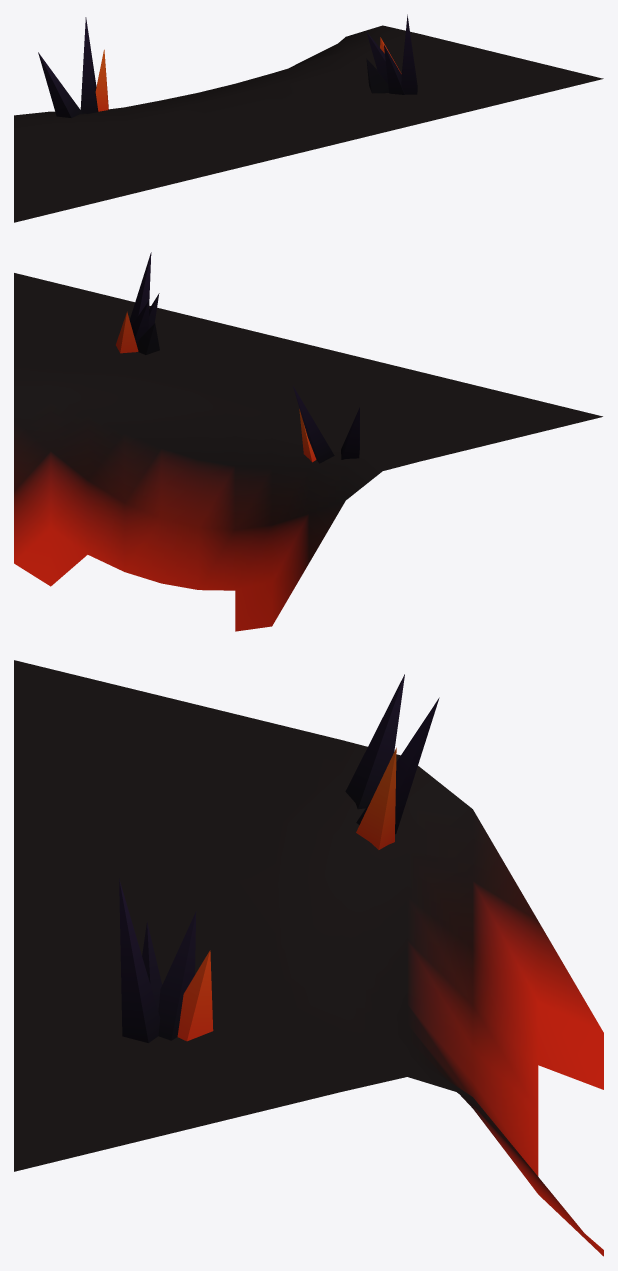
Rendered from MODULE_LAVA_LINE_SHORT.fbx.
3 renders of one model, top to bottom at view 1: azimuth 30°, elevation 25°; view 2: azimuth 150°, elevation 25°; view 3: azimuth 270°, elevation 25°, orthographic. The views are drawn at different scales.
Parts seen in each view (by area): view 1: MODULE_LAVA_LINE_SHORT__export, MODULE_LAVA_LINE_SHORT_DECOR__export; view 2: MODULE_LAVA_LINE_SHORT__export, MODULE_LAVA_LINE_SHORT_DECOR__export; view 3: MODULE_LAVA_LINE_SHORT__export, MODULE_LAVA_LINE_SHORT_DECOR__export.
Boxes of the visible parts, x1,y1,x2,y2 form: MODULE_LAVA_LINE_SHORT__export: (14,25,603,222); MODULE_LAVA_LINE_SHORT_DECOR__export: (38,14,417,117); MODULE_LAVA_LINE_SHORT__export: (14,273,602,631); MODULE_LAVA_LINE_SHORT_DECOR__export: (116,252,359,463); MODULE_LAVA_LINE_SHORT__export: (14,660,603,1256); MODULE_LAVA_LINE_SHORT_DECOR__export: (119,674,439,1042).
Size of the model in its own units: 100 by 36.72 by 48.71.
